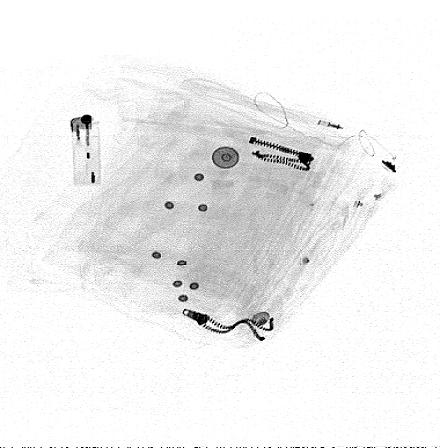Lighter: (70, 114, 101, 186)
